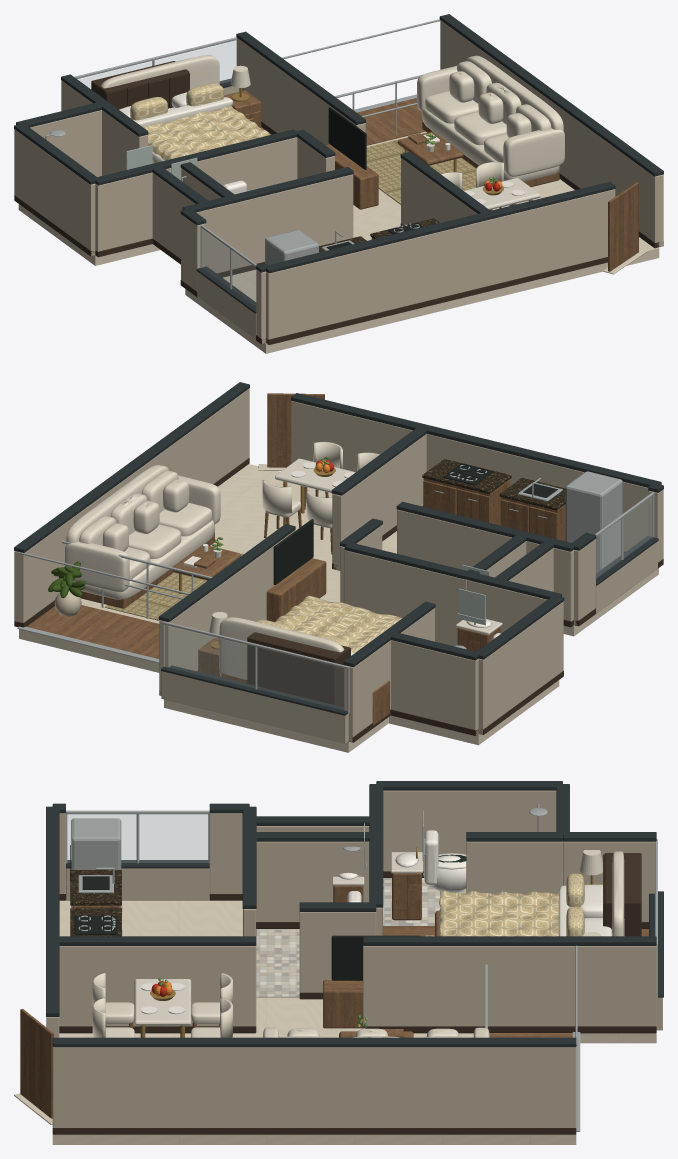
File: Codename-Elements_Tower-2_Flat-01_1BHK.glb
3 views of the same model, one above another, from view 1: azimuth 30°, elevation 25°; view 2: azimuth 150°, elevation 25°; view 3: azimuth 270°, elevation 25° (orthographic). The views are drawn at different scales.
Parts seen in each view (by area): view 1: Ivory masonry.002, Apartment foundation, Ivory masonry.001, Ivory masonry.014, Ivory masonry.008, Soft jacquard duvet with folds.003, Ivory masonry.007, Ivory masonry.016, Ivory masonry.012, Charcoal wall cut.002, Charcoal wall cut.001, Ivory masonry.017 (+54 smaller); view 2: Apartment foundation, Ivory masonry.002, Ivory masonry.001, Cutaway window glazing, Ivory masonry.012, Ivory masonry.009, Ivory masonry.008, Ivory masonry.017, Window sill, Dark fitted wardrobe, Ivory masonry.014, Brushed refrigerator (+67 smaller); view 3: Ivory masonry.001, Ivory masonry.016, Apartment foundation, Ivory masonry.017, Ivory masonry.008, Ivory masonry.006, Ivory masonry, Charcoal wall cut.001, Soft jacquard duvet with folds.003, Ivory masonry.011, Cutaway window glazing.001, Wall skirting.001 (+48 smaller).
Part boxes in pixels (x1,y1,x2,y2): Ivory masonry.002: (266,189,615,344); Apartment foundation: (18,131,659,353); Ivory masonry.001: (440,20,663,246); Ivory masonry.014: (210,174,353,272); Ivory masonry.008: (14,129,95,256); Soft jacquard duvet with folds.003: (143,106,269,163); Ivory masonry.007: (95,168,171,251); Ivory masonry.016: (237,39,365,145); Ivory masonry.012: (197,137,297,191); Charcoal wall cut.002: (264,181,615,273); Charcoal wall cut.001: (439,14,663,176); Ivory masonry.017: (401,158,477,225); Apartment foundation: (19,464,658,752); Ivory masonry.002: (291,401,648,551); Ivory masonry.001: (14,388,249,627); Cutaway window glazing: (165,626,346,710); Ivory masonry.012: (344,550,466,645); Ivory masonry.009: (391,640,478,735); Ivory masonry.008: (478,601,563,734); Ivory masonry.017: (332,434,426,570); Window sill: (161,671,348,743); Dark fitted wardrobe: (247,632,350,707); Ivory masonry.014: (397,509,512,569); Brushed refrigerator: (565,471,622,573); Ivory masonry.001: (52,1047,576,1127); Ivory masonry.016: (363,945,655,1026); Apartment foundation: (52,900,656,1144); Ivory masonry.017: (59,945,256,1026); Ivory masonry.008: (383,790,556,871); Ivory masonry.006: (256,841,369,921); Ivory masonry: (577,945,656,1026); Charcoal wall cut.001: (52,1037,576,1047); Soft jacquard duvet with folds.003: (439,890,559,936); Ivory masonry.011: (466,841,562,894); Cutaway window glazing.001: (67,815,207,862); Wall skirting.001: (52,1128,576,1134).
Size of the model in its own units: 7.08 by 1.37 by 7.41.
25 materials, 6 textured.
